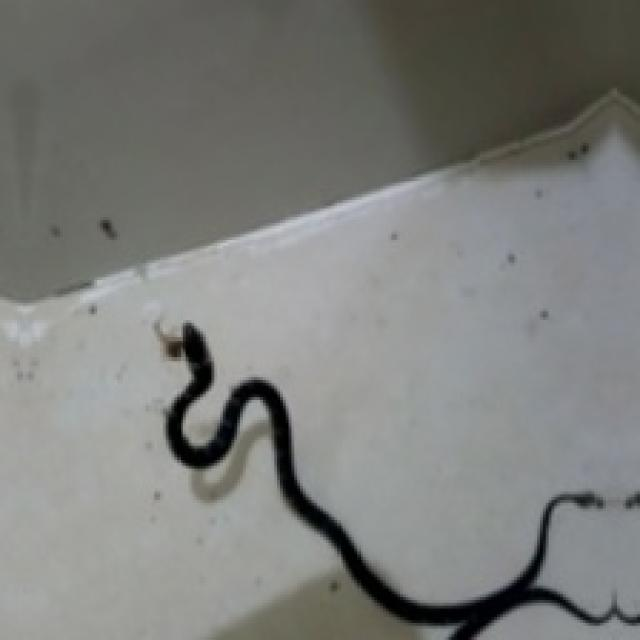gunthers philippine shrub snake: (157, 323, 637, 637)
